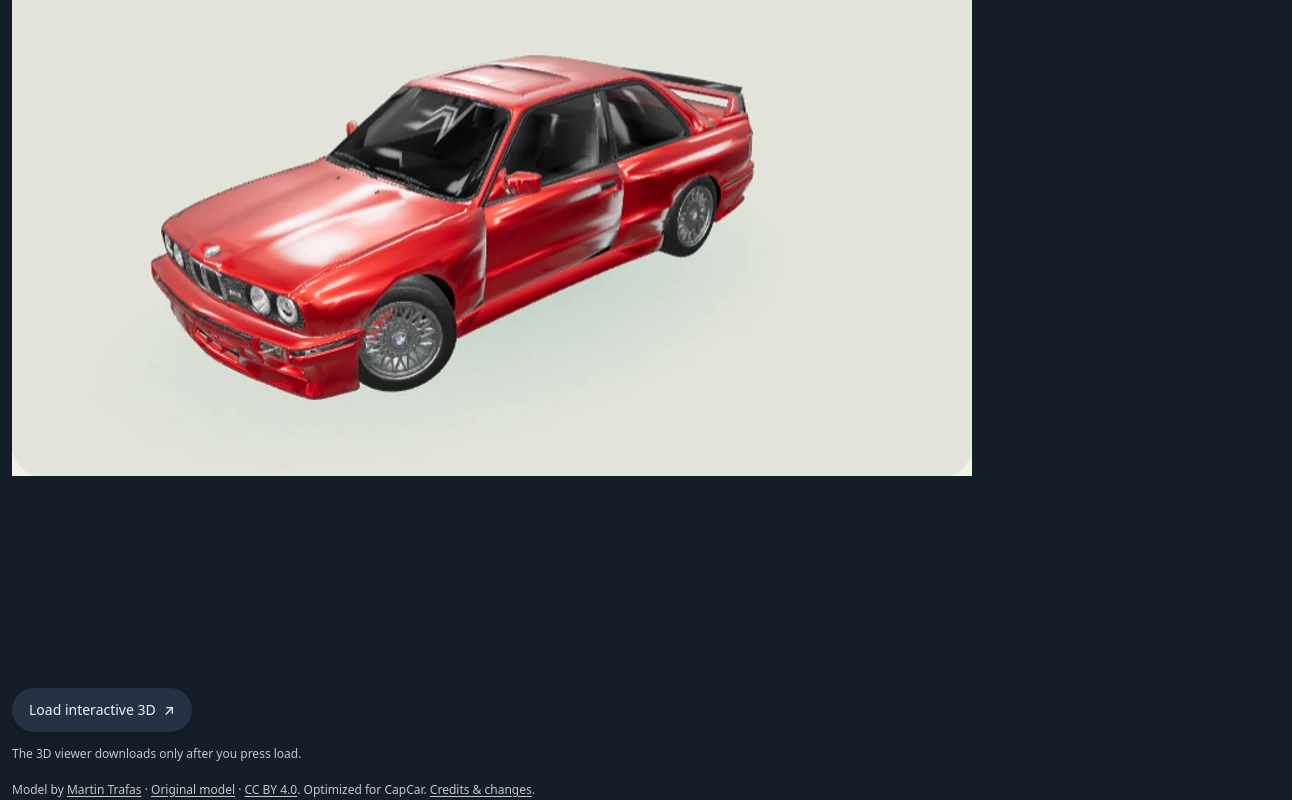
Scenario: shared free car viewer › keeps Studio controls and labels outside the car visual, including on failure
(page scrolled)
Click the button "Load interactive 3D ↗".
click(102, 710)  # box [12, 688, 192, 732]
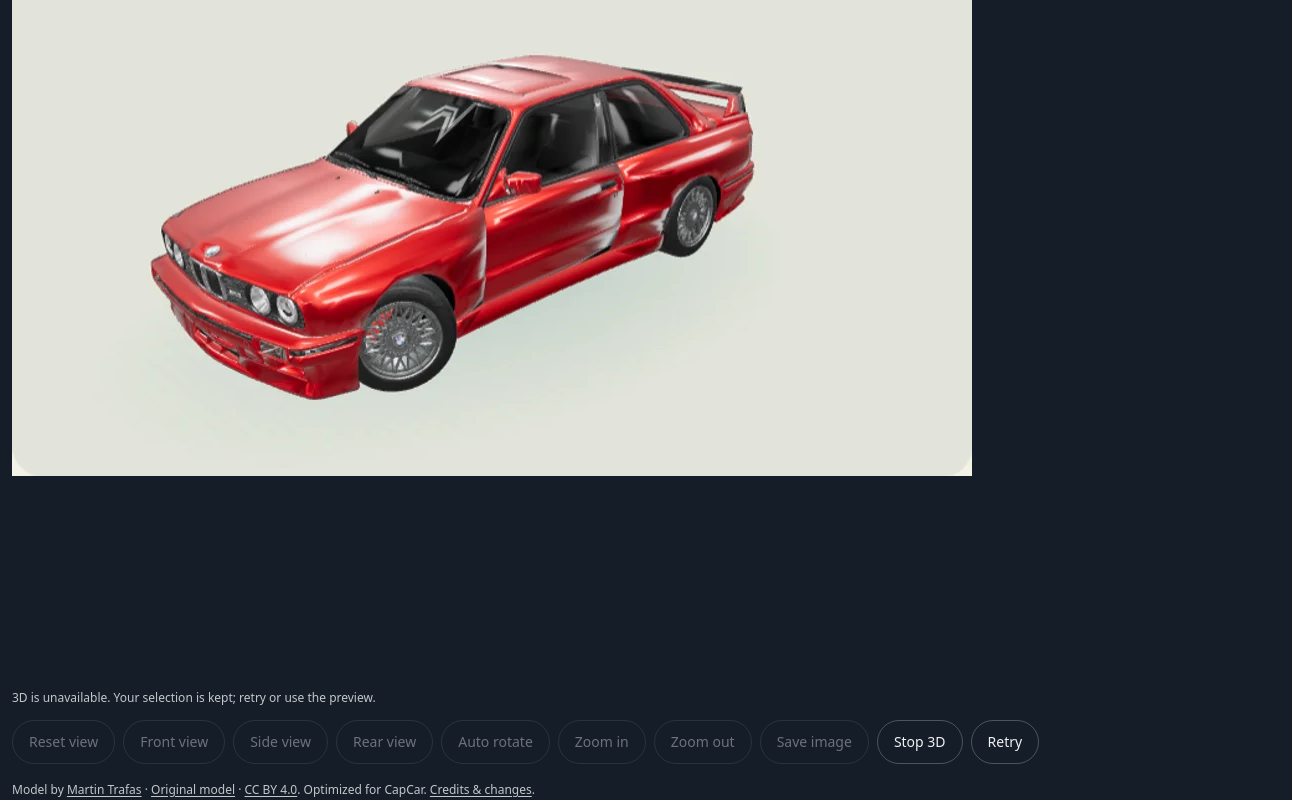
Expected: the message shows "3D is unavailable", [12, 689, 376, 706]
Expected: the button "Retry" is enabled, [971, 720, 1039, 764]
